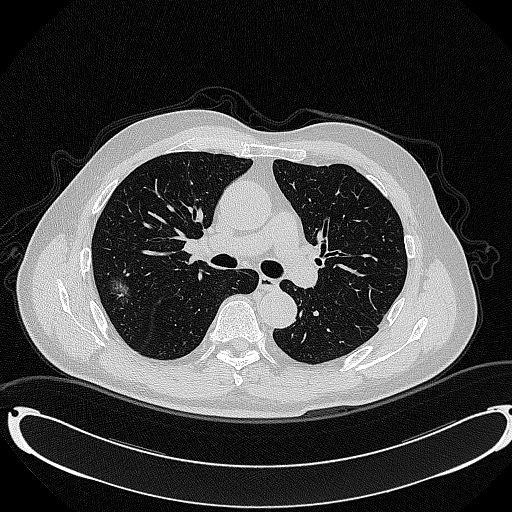nodule: (108, 277, 130, 301)
